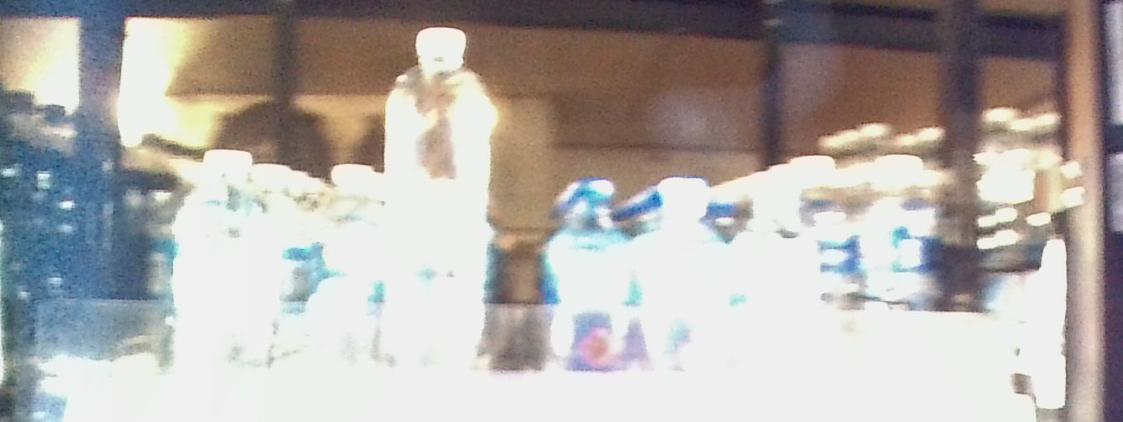bottle: (387, 27, 497, 378), (169, 140, 275, 378), (547, 172, 631, 370), (312, 164, 385, 384)
